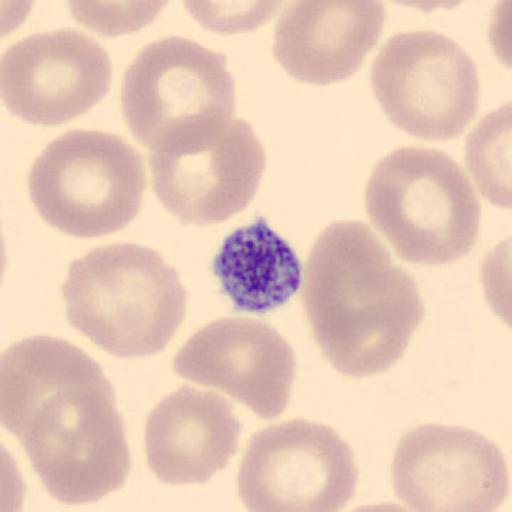Platelet: (210, 219, 305, 316)
RBC: (300, 216, 424, 378), (60, 240, 189, 362), (365, 143, 483, 269), (146, 110, 268, 230), (26, 127, 148, 241), (22, 382, 132, 507), (172, 314, 299, 422), (119, 35, 238, 150), (369, 28, 481, 143), (2, 332, 112, 448), (237, 416, 360, 512), (2, 27, 116, 128), (389, 420, 511, 512), (143, 383, 244, 487), (270, 0, 387, 87), (2, 332, 75, 441), (463, 100, 512, 210), (63, 0, 175, 38), (179, 0, 287, 35), (479, 232, 512, 332), (0, 434, 27, 512), (488, 0, 512, 75), (0, 0, 35, 39), (382, 0, 477, 14), (324, 502, 438, 512)
